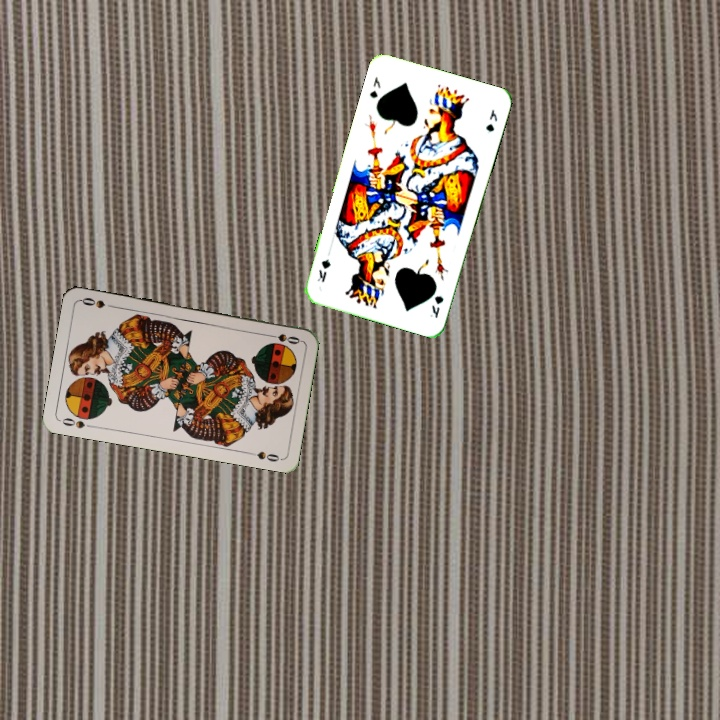GK: (426, 292, 446, 321), (365, 73, 383, 101)
SO: (263, 330, 303, 347), (58, 414, 97, 431)
